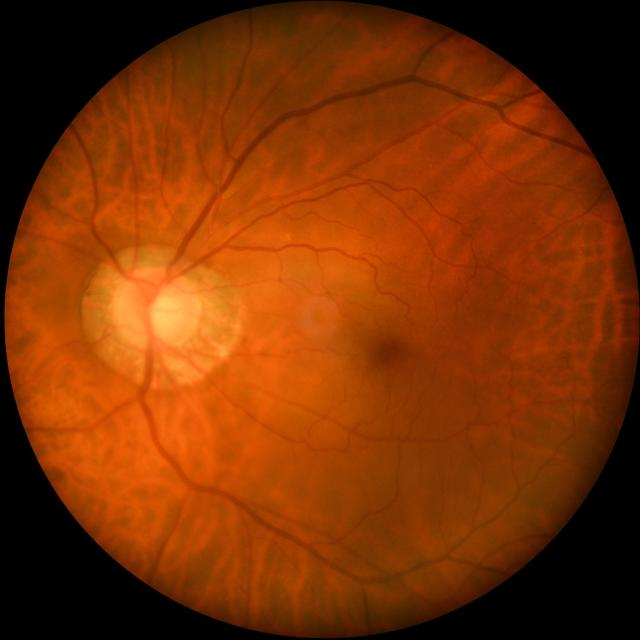OC: (146, 288, 184, 340)
OD: (110, 265, 202, 353)
